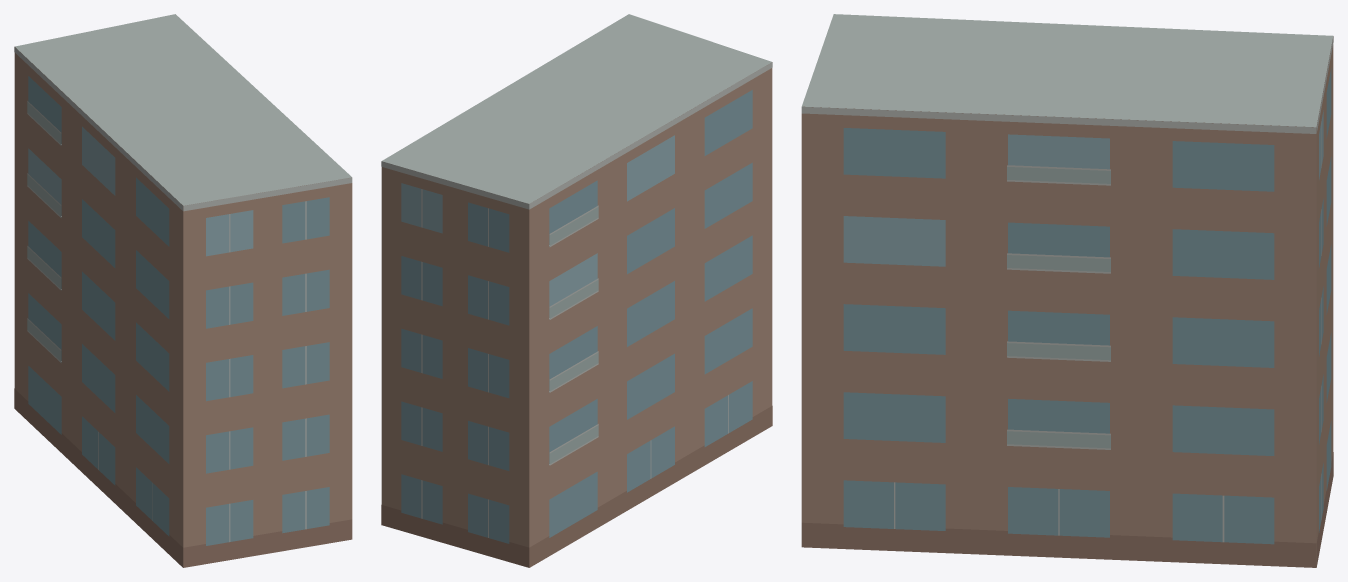
Rendered from survey-upis-32566542.glb.
3 renders of one model, left to right at view 1: azimuth 30°, elevation 25°; view 2: azimuth 150°, elevation 25°; view 3: azimuth 270°, elevation 25°, orthographic. The views are drawn at different scales.
Visible parts, largest first — view 1: survey-upis-32566542.tmp; view 2: survey-upis-32566542.tmp; view 3: survey-upis-32566542.tmp.
Boxes of the visible parts, x1=… form: survey-upis-32566542.tmp: x1=14, y1=14, x2=352, y2=567; survey-upis-32566542.tmp: x1=381, y1=14, x2=772, y2=567; survey-upis-32566542.tmp: x1=801, y1=14, x2=1333, y2=567.
Size of the model in its own units: 8.66 by 15.7 by 17.18.
